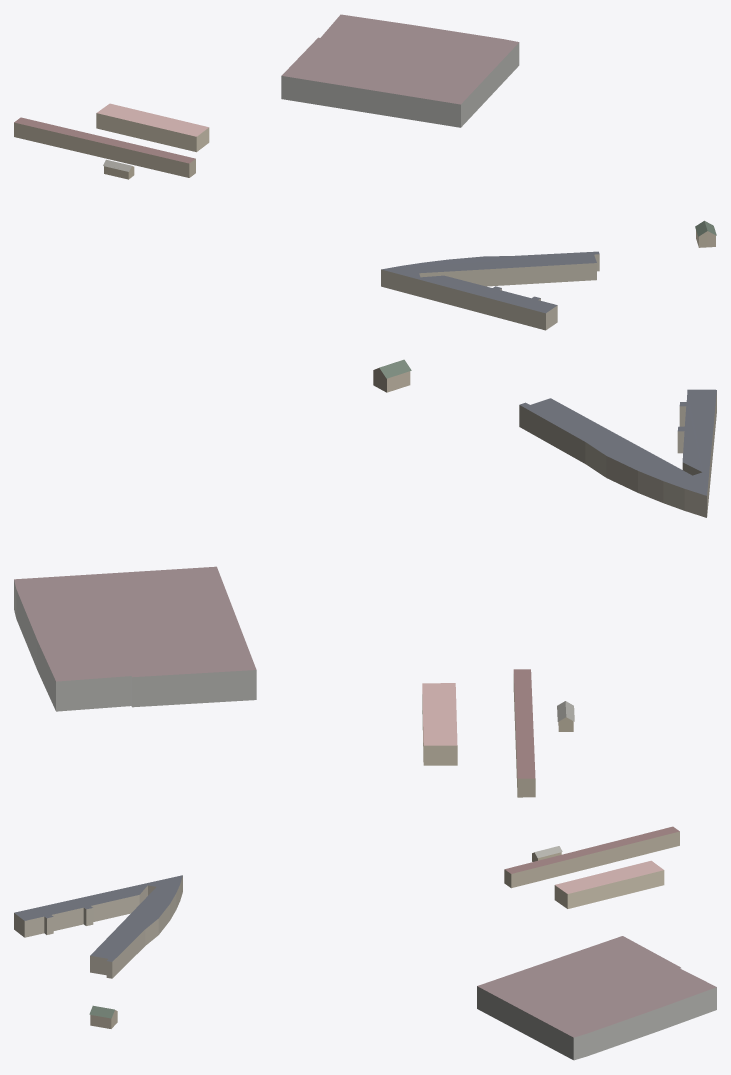
The picture shows the model from 3 angles, top to bottom: view 1: azimuth 30°, elevation 25°; view 2: azimuth 150°, elevation 25°; view 3: azimuth 270°, elevation 25°; orthographic projection. The views are drawn at different scales.
Visible parts, largest first — view 1: tuile; view 2: tuile; view 3: tuile.
Part boxes in pixels (x1,y1,x2,y2): tuile: (14,14,716,330); tuile: (14,359,716,797); tuile: (14,826,716,1060).
Bounding box in the file's own units: 227 × 13.37 × 310.
